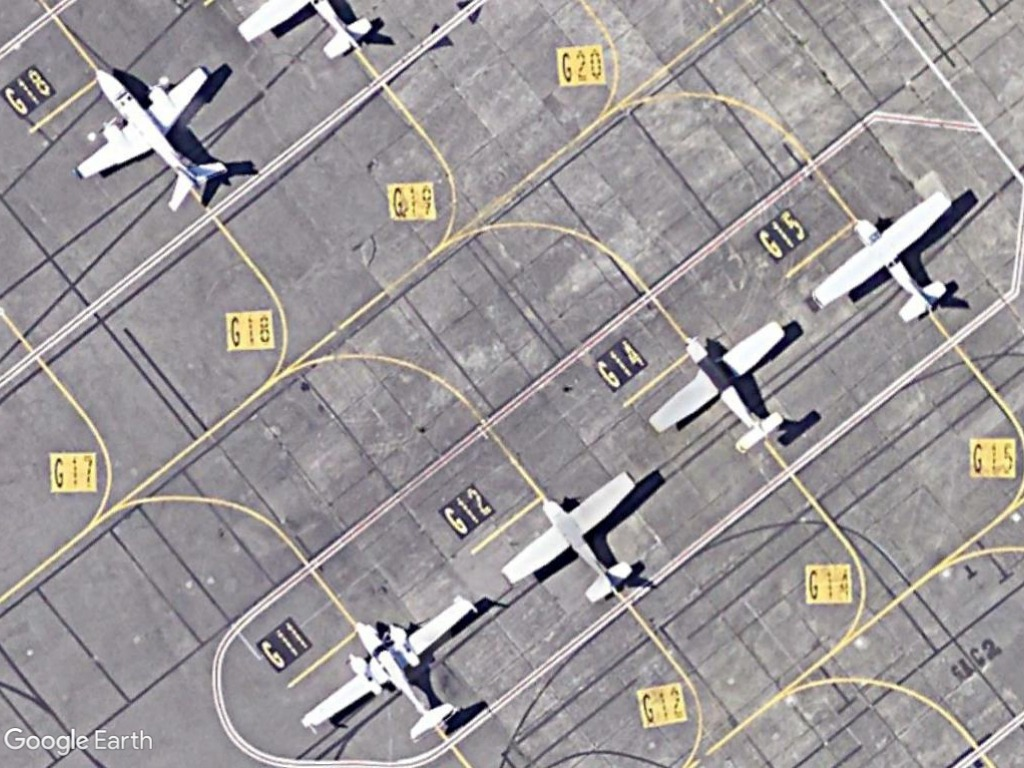propeller: (300, 595, 478, 743), (70, 63, 231, 211)
trainer: (648, 316, 791, 457), (810, 188, 957, 324), (500, 468, 643, 604)
